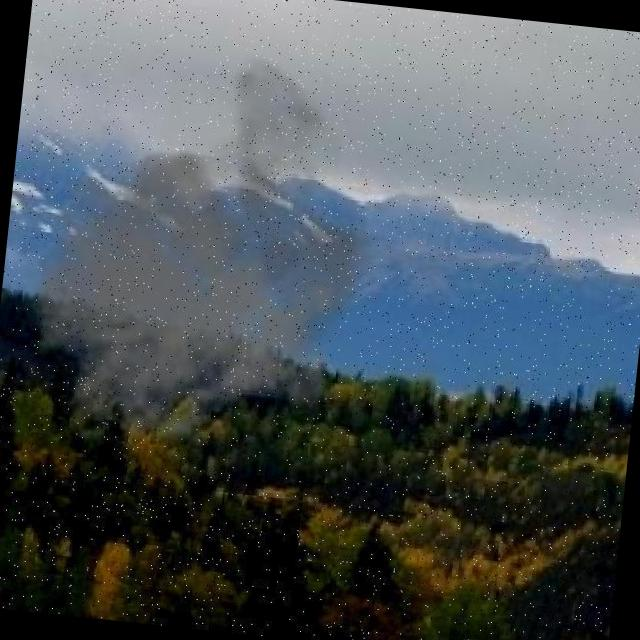Smoke: (34, 62, 432, 486)
